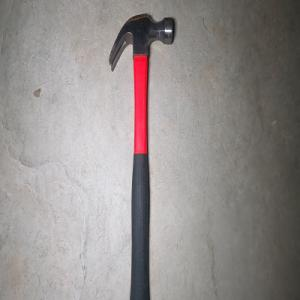Hammer: (107, 12, 174, 300)
